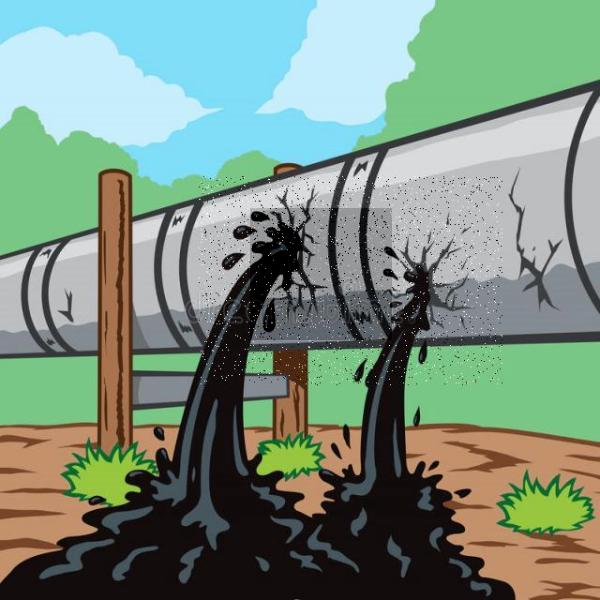water: (250, 208, 392, 340)
